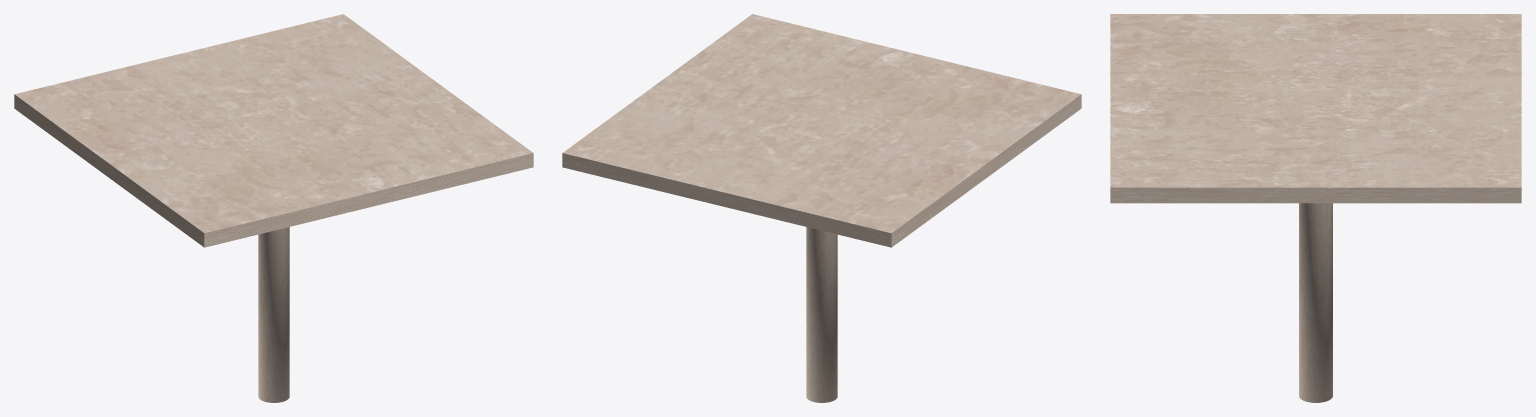
The model's file is table.glb.
The picture shows the model from 3 angles, left to right: view 1: azimuth 30°, elevation 25°; view 2: azimuth 150°, elevation 25°; view 3: azimuth 270°, elevation 25°; orthographic projection. The views are drawn at different scales.
Parts seen in each view (by area): view 1: Cube; view 2: Cube; view 3: Cube.
Part boxes in pixels (x1,y1,x2,y2): Cube: [14, 14, 533, 402]; Cube: [562, 14, 1081, 402]; Cube: [1110, 14, 1521, 402].
Size of the model in its own units: 1.22 by 0.9652 by 1.22.
1 material, 1 textured.
